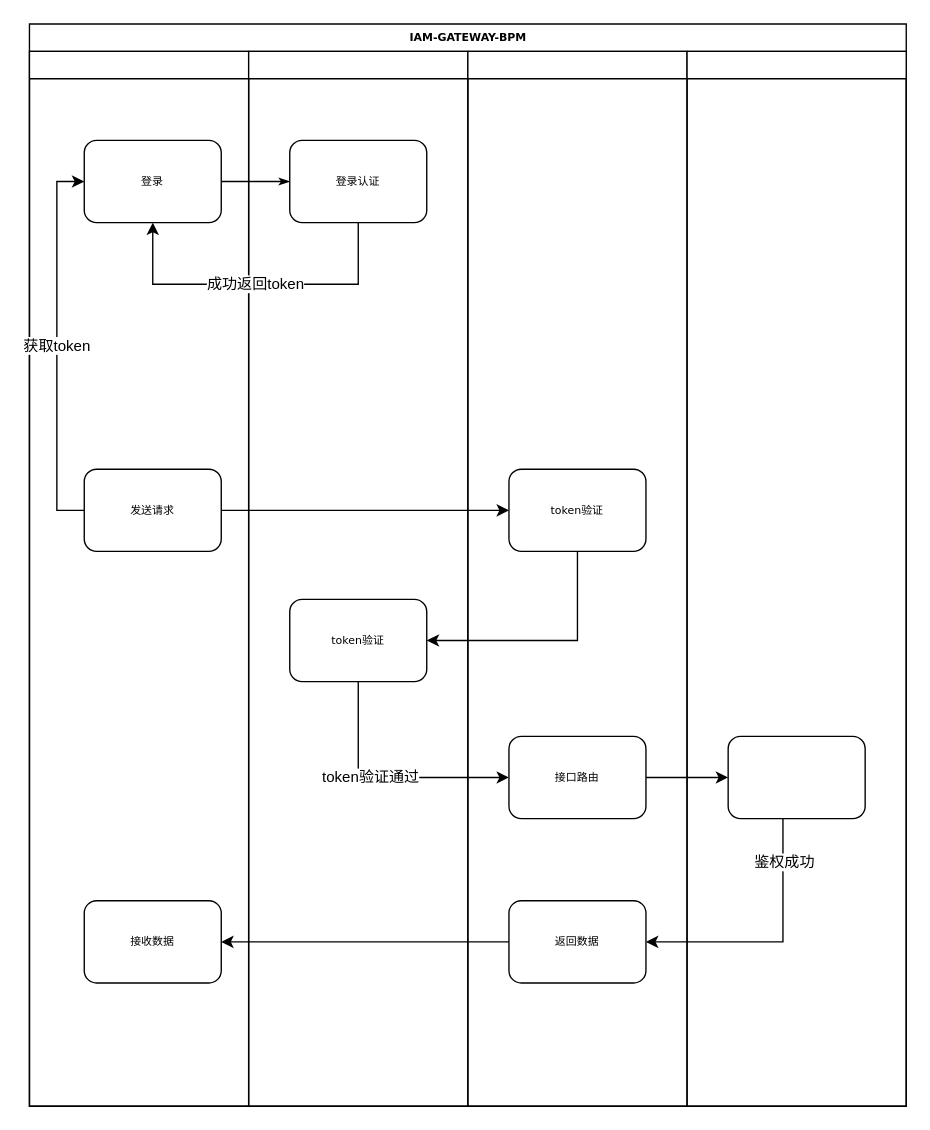
Image size: 930x1130. Some labels were removed from this diagram. Here are the shapes that lost their labels. From the top down, the box of each, then its label:
(28, 50, 249, 1106): CLIENT
(247, 50, 468, 1106): IAM
(466, 50, 687, 1106): GATEWAY
(686, 50, 906, 1106): BPM
(727, 735, 865, 819): 数据查询
